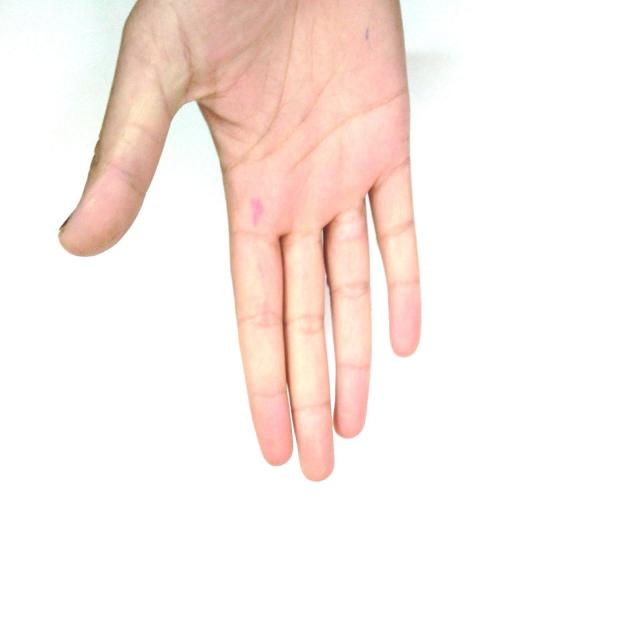others: (38, 1, 562, 505)
